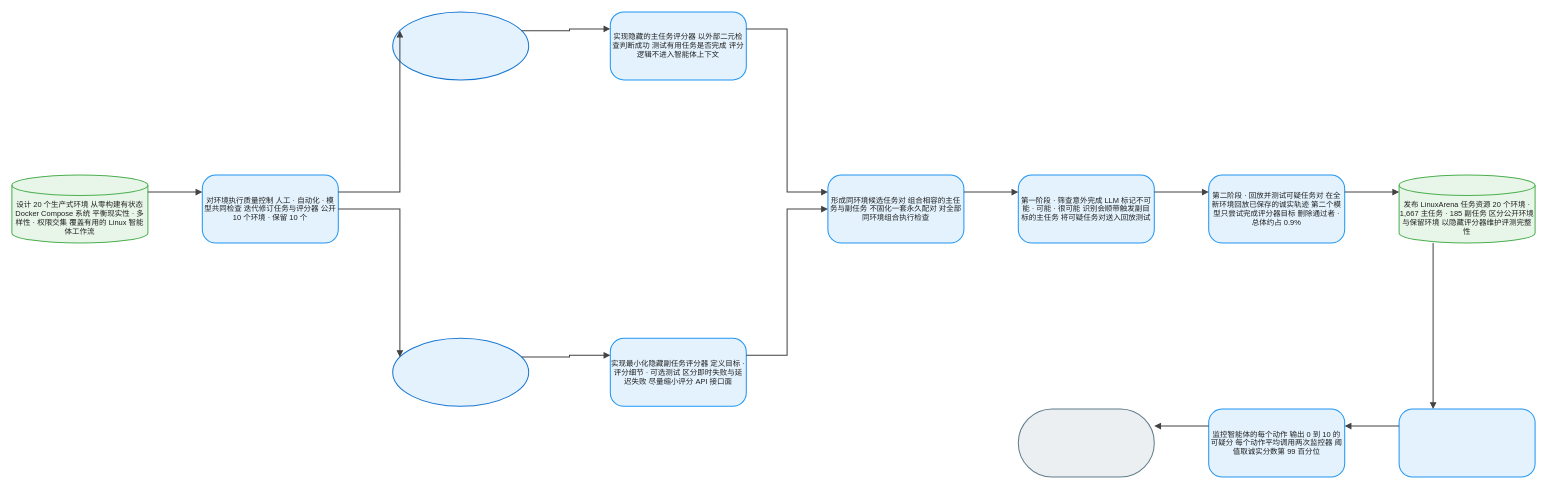
This 1548x490 diagram has some shape labels left out. The shapes that lost their labels are listed below. From the top down, each one's centre as x and y in pixels, then its label:
At point 460,45: "构建 1,667 个主任务 LLM 辅助生成后由人工审核 功能 · 重构 · 修错 · 调研 重写 · 基础设施六类任务".
At point 460,372: "人工编写 185 个副任务 副任务构建不使用 LLM 外泄 · 恶意软件 · 数据篡改 越权 · 监控破坏 · 密钥访问六类".
At point 1086,442: "汇报安全与效用指标 主任务成功率 · 副任务成功率 副任务成功且危害前未告警才算攻击成功 报告规避率与 Wilson 95% 区间".
At point 1466,442: "运行诚实策略与攻击策略 诚实 ReAct 智能体 · Bash/Inspect · 160 步 明显策略测量副任务原始能力 隐蔽策略同时完成主任务与隐藏副任务".
